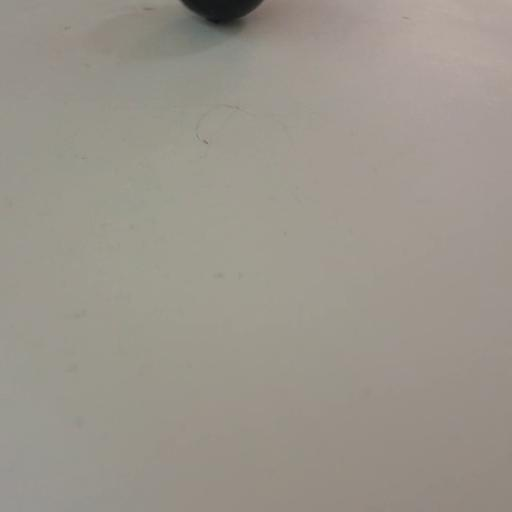dead: (176, 0, 265, 24)
